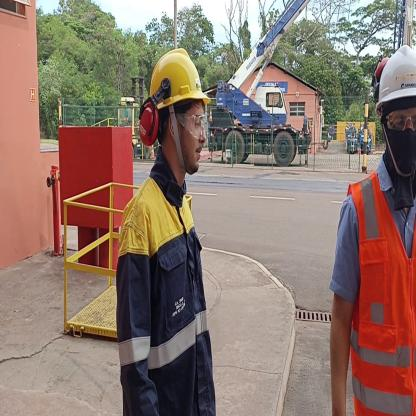Balaclava: (374, 100, 416, 205)
C_eletrica: (113, 176, 227, 416)
Capacete: (134, 48, 212, 106), (373, 44, 416, 106)
colete: (331, 181, 416, 416)
